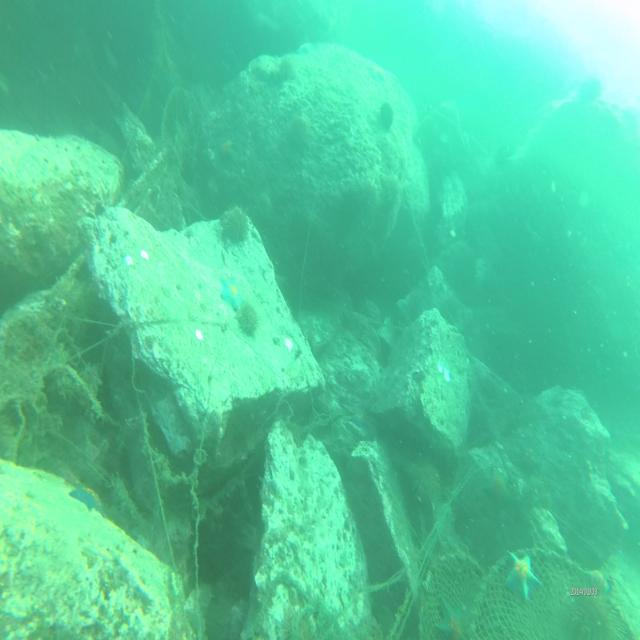echinus: (570, 587, 630, 640), (412, 454, 442, 508), (222, 202, 250, 244), (287, 115, 311, 154), (253, 187, 275, 228), (236, 304, 258, 340), (384, 168, 404, 204), (341, 184, 361, 212), (360, 182, 377, 212), (380, 100, 392, 130), (280, 57, 294, 77)
scallop: (195, 327, 205, 340), (140, 247, 148, 260)
starfish: (506, 544, 542, 604), (436, 591, 464, 640), (68, 481, 105, 515), (486, 465, 510, 506), (583, 561, 611, 596), (216, 274, 244, 309), (370, 59, 385, 83), (217, 138, 233, 157)
